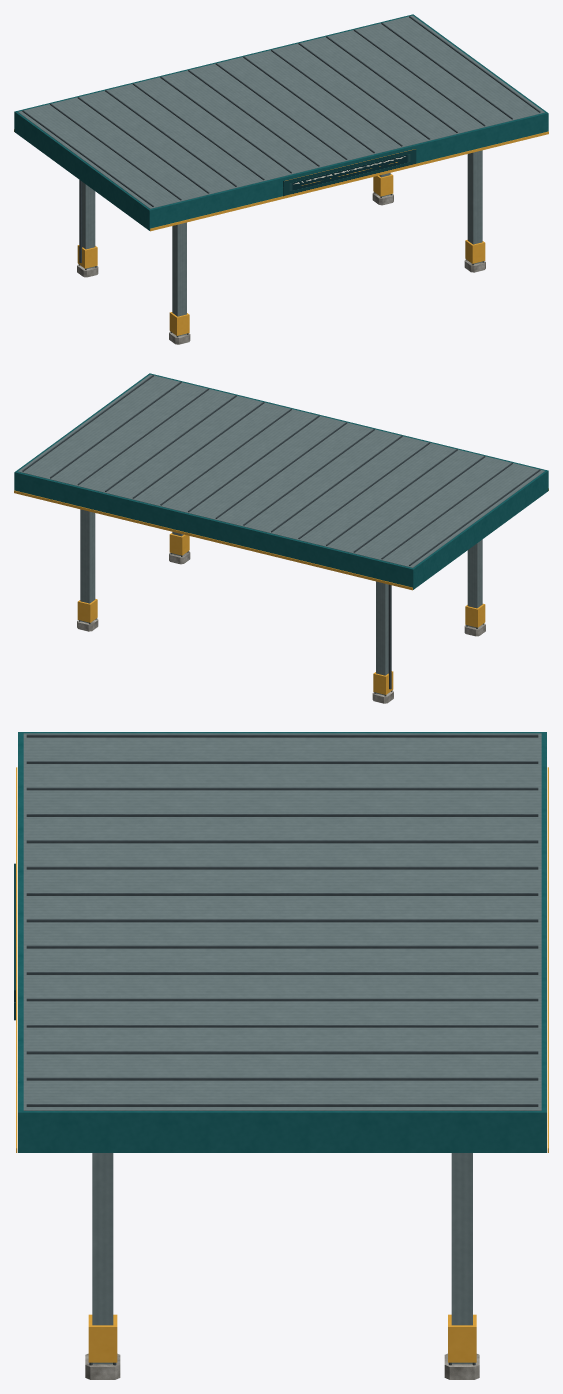
File: CW24_02_Canopy_14x8m.glb
3 renders of one model, top to bottom at view 1: azimuth 30°, elevation 25°; view 2: azimuth 150°, elevation 25°; view 3: azimuth 270°, elevation 25°, orthographic. The views are drawn at different scales.
Parts seen in each view (by area): view 1: Fuel_Canopy__Roof_StandingSeam_Deck, Fuel_Canopy__Fascia_Front_Teal, Fuel_Canopy__Roof_Standing_Seams, Fuel_Canopy__Pillar_SquareSteel, Fuel_Canopy__Fascia_Left_Teal, Fuel_Canopy__Canopy_Front_Station_Logo, Fuel_Canopy__Pillar_Protective_Bumper, Fuel_Canopy__Fascia_Amber_Accent, Fuel_Canopy__Pillar_Concrete_Base, Fuel_Canopy__Fascia_Rear_Teal; view 2: Fuel_Canopy__Roof_StandingSeam_Deck, Fuel_Canopy__Fascia_Rear_Teal, Fuel_Canopy__Roof_Standing_Seams, Fuel_Canopy__Pillar_SquareSteel, Fuel_Canopy__Fascia_Left_Teal, Fuel_Canopy__Pillar_Protective_Bumper, Fuel_Canopy__Fascia_Amber_Accent, Fuel_Canopy__Pillar_Concrete_Base, Fuel_Canopy__Fascia_Front_Teal; view 3: Fuel_Canopy__Roof_StandingSeam_Deck, Fuel_Canopy__Roof_Standing_Seams, Fuel_Canopy__Fascia_Right_Teal, Fuel_Canopy__Pillar_SquareSteel, Fuel_Canopy__Fascia_Front_Teal, Fuel_Canopy__Fascia_Rear_Teal, Fuel_Canopy__Pillar_Protective_Bumper, Fuel_Canopy__Fascia_Amber_Accent, Fuel_Canopy__Pillar_Concrete_Base, Fuel_Canopy__Fascia_Left_Teal.
Part boxes in pixels (x1,y1,x2,y2): Fuel_Canopy__Roof_StandingSeam_Deck: [18, 15, 544, 208]; Fuel_Canopy__Fascia_Front_Teal: [147, 111, 548, 230]; Fuel_Canopy__Roof_Standing_Seams: [22, 16, 540, 206]; Fuel_Canopy__Pillar_SquareSteel: [81, 150, 482, 336]; Fuel_Canopy__Fascia_Left_Teal: [17, 113, 148, 228]; Fuel_Canopy__Canopy_Front_Station_Logo: [283, 148, 416, 196]; Fuel_Canopy__Pillar_Protective_Bumper: [77, 174, 485, 335]; Fuel_Canopy__Fascia_Amber_Accent: [14, 129, 548, 231]; Fuel_Canopy__Pillar_Concrete_Base: [77, 192, 485, 344]; Fuel_Canopy__Fascia_Rear_Teal: [14, 14, 415, 133]; Fuel_Canopy__Roof_StandingSeam_Deck: [18, 374, 544, 567]; Fuel_Canopy__Fascia_Rear_Teal: [14, 470, 415, 589]; Fuel_Canopy__Roof_Standing_Seams: [22, 375, 540, 565]; Fuel_Canopy__Pillar_SquareSteel: [80, 509, 482, 695]; Fuel_Canopy__Fascia_Left_Teal: [414, 472, 545, 587]; Fuel_Canopy__Pillar_Protective_Bumper: [77, 533, 485, 694]; Fuel_Canopy__Fascia_Amber_Accent: [14, 488, 548, 590]; Fuel_Canopy__Pillar_Concrete_Base: [77, 551, 485, 703]; Fuel_Canopy__Fascia_Front_Teal: [147, 373, 548, 492]; Fuel_Canopy__Roof_StandingSeam_Deck: [23, 733, 541, 1110]; Fuel_Canopy__Roof_Standing_Seams: [26, 734, 538, 1106]; Fuel_Canopy__Fascia_Right_Teal: [28, 1111, 536, 1152]; Fuel_Canopy__Pillar_SquareSteel: [92, 1153, 472, 1364]; Fuel_Canopy__Fascia_Front_Teal: [18, 732, 27, 1152]; Fuel_Canopy__Fascia_Rear_Teal: [537, 732, 546, 1152]; Fuel_Canopy__Pillar_Protective_Bumper: [88, 1314, 476, 1362]; Fuel_Canopy__Fascia_Amber_Accent: [16, 767, 548, 1152]; Fuel_Canopy__Pillar_Concrete_Base: [85, 1353, 479, 1379]; Fuel_Canopy__Fascia_Left_Teal: [28, 732, 536, 733].
Bounding box in the file's own units: 14.44 × 5.51 × 8.57.
7 materials, 7 textured.
